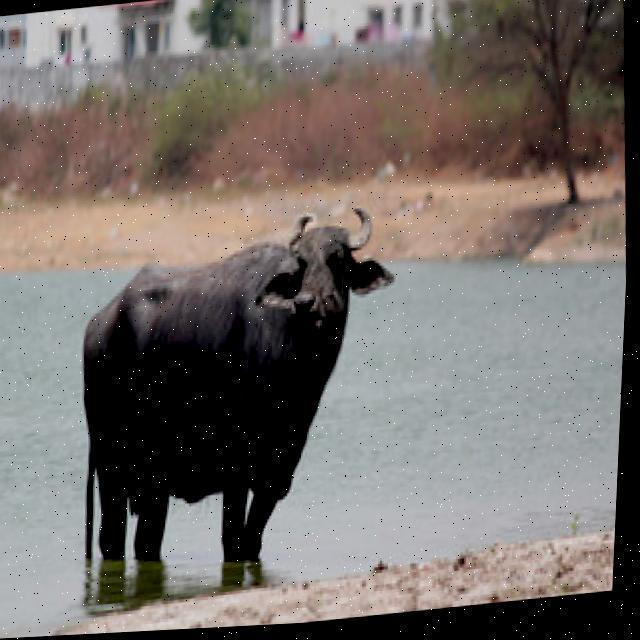Buffalo: (59, 195, 413, 582)
